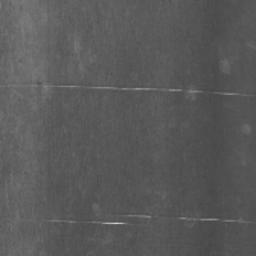Waist folding: (0, 83, 256, 97), (43, 214, 256, 226)
